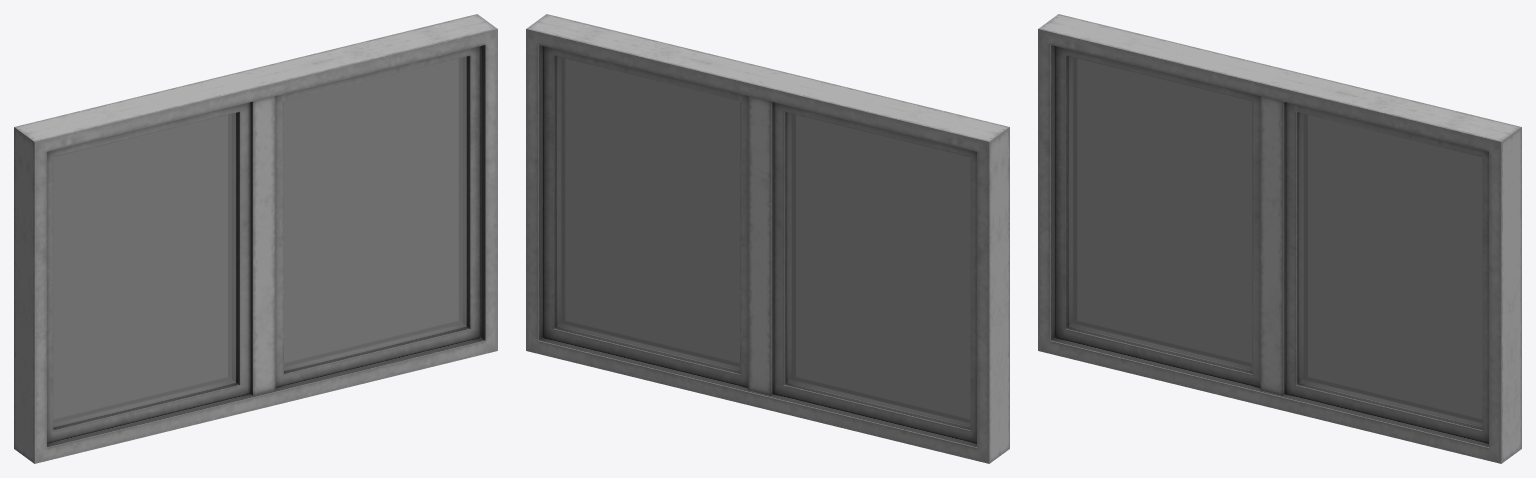
Rendered from Warehouse Office Window 2.fbx.
The picture shows the model from 3 angles, left to right: view 1: azimuth 30°, elevation 25°; view 2: azimuth 150°, elevation 25°; view 3: azimuth 330°, elevation 25°; orthographic projection.
Visible parts, largest first — view 1: Warehouse_Office_Window_2; view 2: Warehouse_Office_Window_2; view 3: Warehouse_Office_Window_2.
Boxes of the visible parts, x1=… form: Warehouse_Office_Window_2: x1=14, y1=14, x2=497, y2=463; Warehouse_Office_Window_2: x1=526, y1=14, x2=1009, y2=463; Warehouse_Office_Window_2: x1=1038, y1=14, x2=1521, y2=463.
Size of the model in its own units: 151 by 100 by 11.53.
